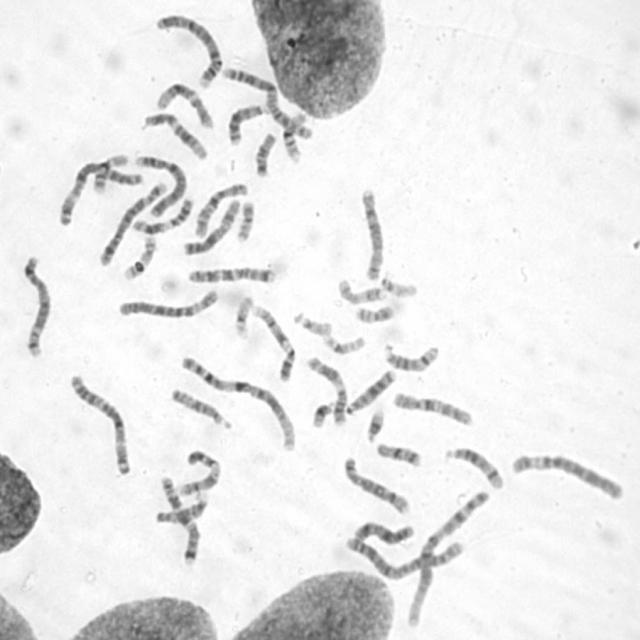A1: (400, 485, 490, 630), (175, 349, 299, 452)
A2: (217, 61, 315, 140), (340, 529, 468, 580)
A3: (64, 367, 133, 477), (54, 155, 141, 227)
B4: (150, 8, 224, 89), (130, 149, 189, 220)
B5: (95, 176, 170, 268), (15, 250, 52, 358)
C10: (387, 385, 475, 428), (188, 178, 250, 238)
C11: (302, 351, 350, 427), (127, 191, 196, 235)
C12: (138, 106, 210, 161), (151, 76, 215, 129)
C6: (506, 447, 626, 502), (112, 282, 221, 320)
C7: (156, 471, 202, 566), (182, 261, 277, 285)
C8: (338, 450, 412, 516), (355, 181, 386, 283)
C9: (247, 300, 297, 382), (173, 443, 222, 498)
D13: (341, 363, 398, 415), (222, 98, 270, 147)
D14: (440, 442, 506, 491), (378, 337, 441, 373)
D15: (166, 382, 233, 431), (150, 488, 210, 524)
E16: (88, 149, 130, 195), (277, 105, 309, 164)
E17: (119, 231, 158, 281), (333, 273, 387, 304)
E18: (372, 437, 424, 468), (249, 127, 278, 178)
F19: (317, 327, 367, 355), (229, 289, 255, 340)
F20: (350, 299, 397, 324), (232, 195, 256, 242)
G21: (361, 402, 386, 444), (307, 396, 335, 429)
G22: (288, 307, 334, 337), (375, 270, 419, 298)
X: (178, 193, 242, 257), (349, 514, 417, 546)
